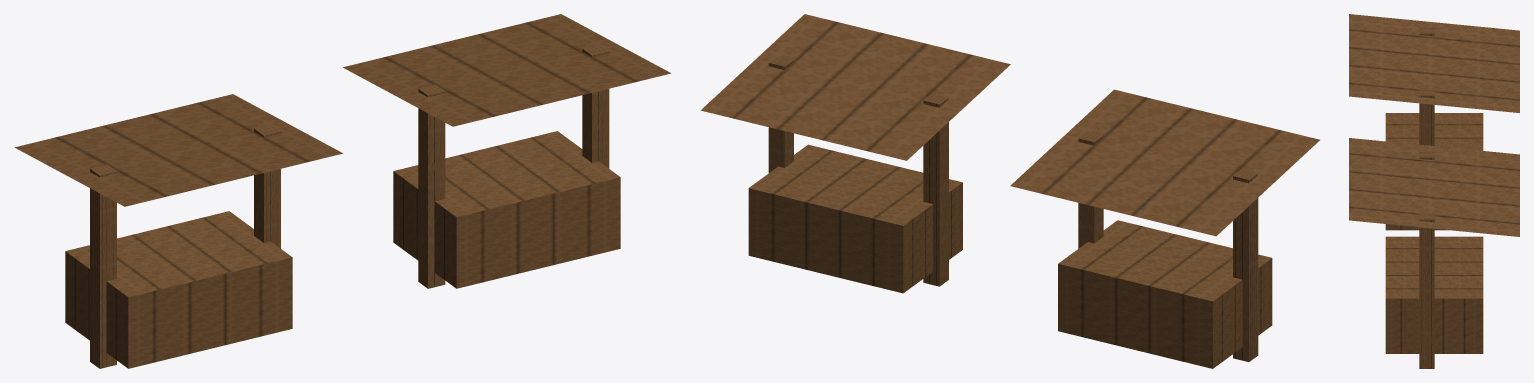
File: domestic-BLACK_MARKET-1-lod1.glb
3 views of the same model, side by side, from view 1: azimuth 30°, elevation 25°; view 2: azimuth 150°, elevation 25°; view 3: azimuth 270°, elevation 25° (orthographic). The views are drawn at different scales.
Bounding box in the file's own units: 0.8 × 0.28 × 0.28.
1 material, 1 textured.
